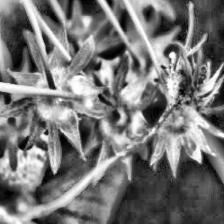Gray Mold: (161, 2, 224, 116)
